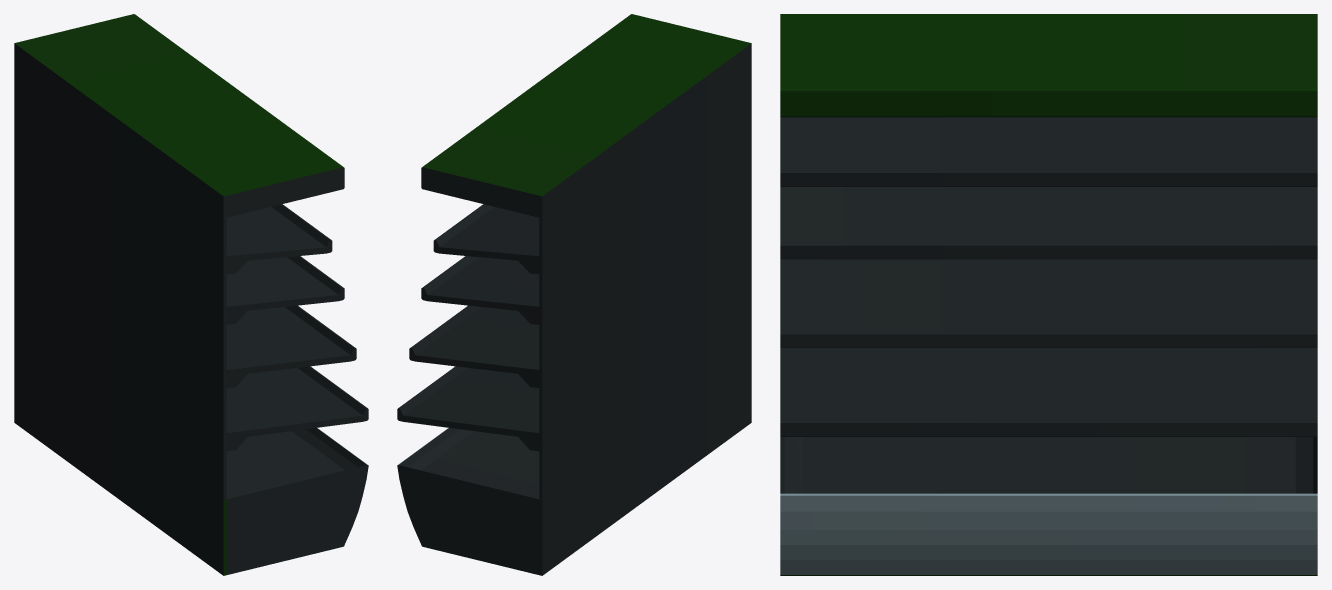
File: Produce_4row_col.glb
3 views of the same model, side by side, from view 1: azimuth 30°, elevation 25°; view 2: azimuth 150°, elevation 25°; view 3: azimuth 270°, elevation 25° (orthographic). The views are drawn at different scales.
Parts seen in each view (by area): view 1: Produce_4row_col; view 2: Produce_4row_col; view 3: Produce_4row_col.
Boxes of the visible parts, bbox=[...] form: Produce_4row_col: bbox=[14, 14, 368, 575]; Produce_4row_col: bbox=[397, 14, 751, 575]; Produce_4row_col: bbox=[780, 14, 1317, 575].
Size of the model in its own units: 1.2 by 3 by 3.
1 material, 1 textured.
